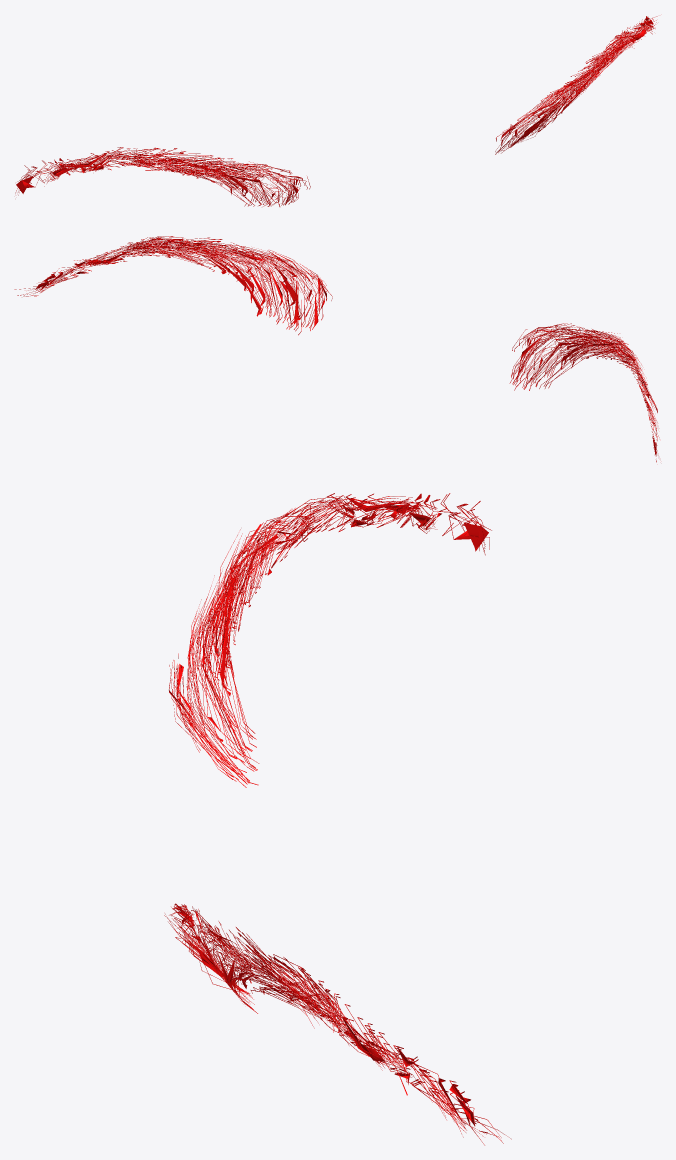
Rendered from mindfront_eyebrows_01_F.glb.
3 views of the same model, one above another, from view 1: azimuth 30°, elevation 25°; view 2: azimuth 150°, elevation 25°; view 3: azimuth 270°, elevation 25° (orthographic). The views are drawn at different scales.
Bounding box in the file's own units: 0.1227 × 0.0148 × 0.0288.
Materials: 1 (1 with a texture image).
